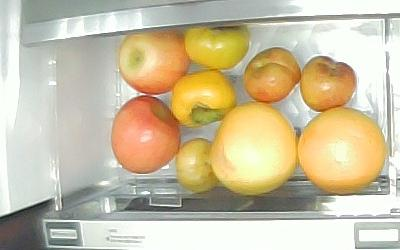apple: (109, 94, 180, 174), (117, 31, 191, 94)
grapefruit: (210, 103, 296, 195), (297, 106, 385, 194)
persimmon: (171, 69, 234, 125), (183, 24, 250, 70)
prune: (299, 55, 359, 112), (243, 46, 302, 102), (175, 137, 218, 193)
